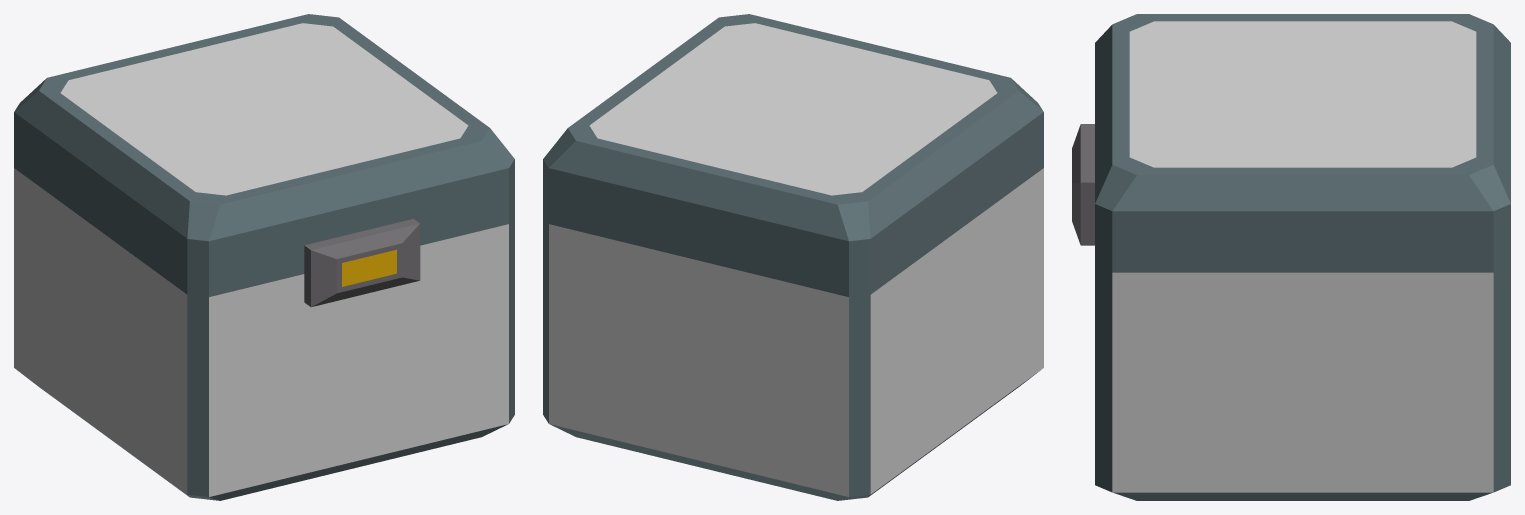
Rendered from scifi_crate_1.fbx.
The picture shows the model from 3 angles, left to right: view 1: azimuth 30°, elevation 25°; view 2: azimuth 150°, elevation 25°; view 3: azimuth 270°, elevation 25°; orthographic projection. The views are drawn at different scales.
Parts seen in each view (by area): view 1: Cube.035, Cube.027; view 2: Cube.027, Cube.035; view 3: Cube.035, Cube.027.
Part boxes in pixels (x1=…): Cube.035: x1=14, y1=14, x2=514, y2=307; Cube.027: x1=14, y1=168, x2=514, y2=500; Cube.027: x1=543, y1=168, x2=1043, y2=500; Cube.035: x1=543, y1=14, x2=1043, y2=297; Cube.035: x1=1072, y1=14, x2=1510, y2=272; Cube.027: x1=1095, y1=265, x2=1510, y2=500.
Bounding box in the file's own units: 1.15 × 0.996 × 1.22.
